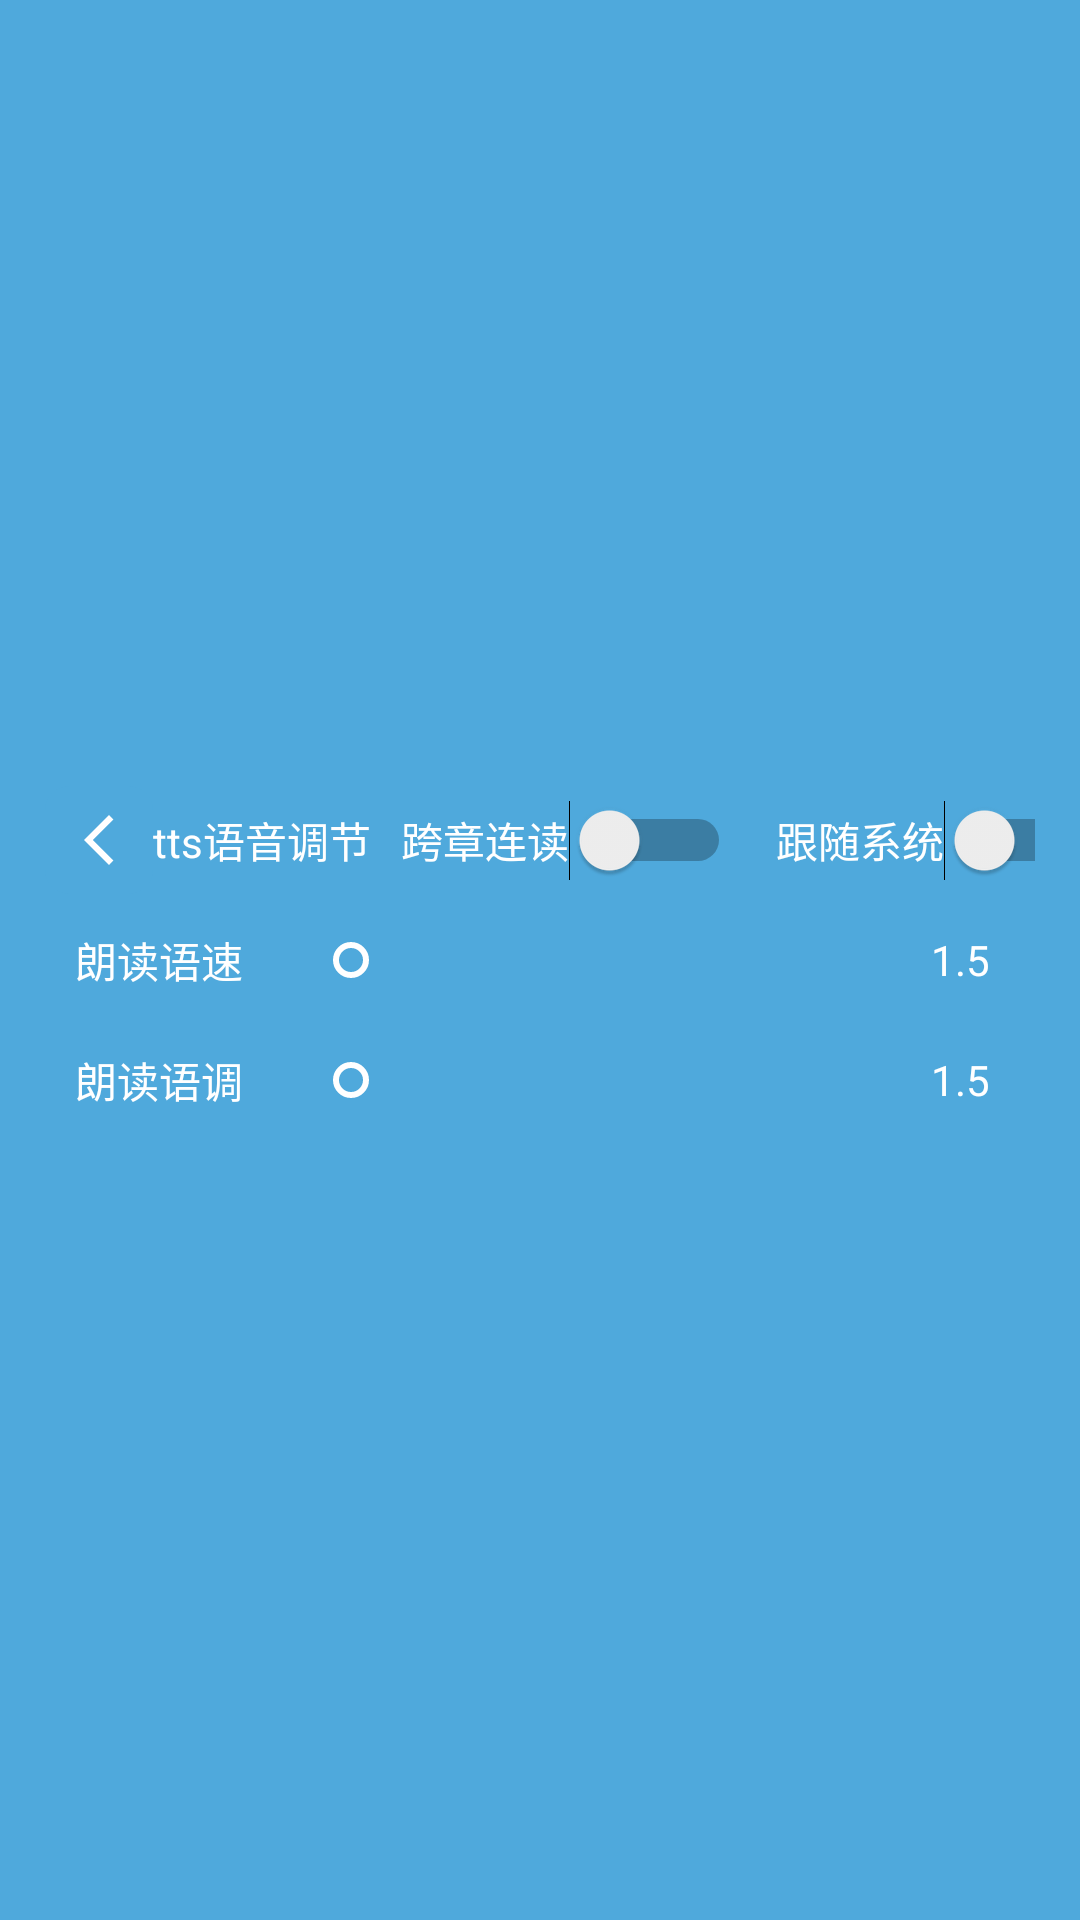

Where icons sit on this 1080*1920 app screen, as (x1, y1, x2, y2):
back: (84, 815, 114, 865)
